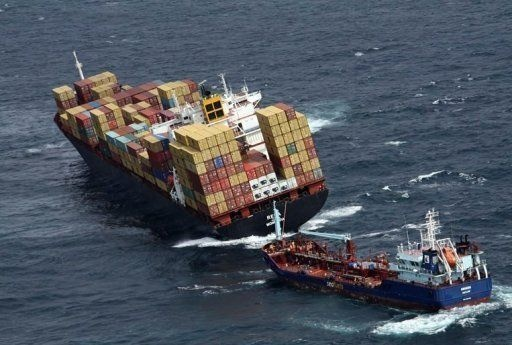Cargoship: (52, 49, 333, 235), (263, 196, 496, 308)
